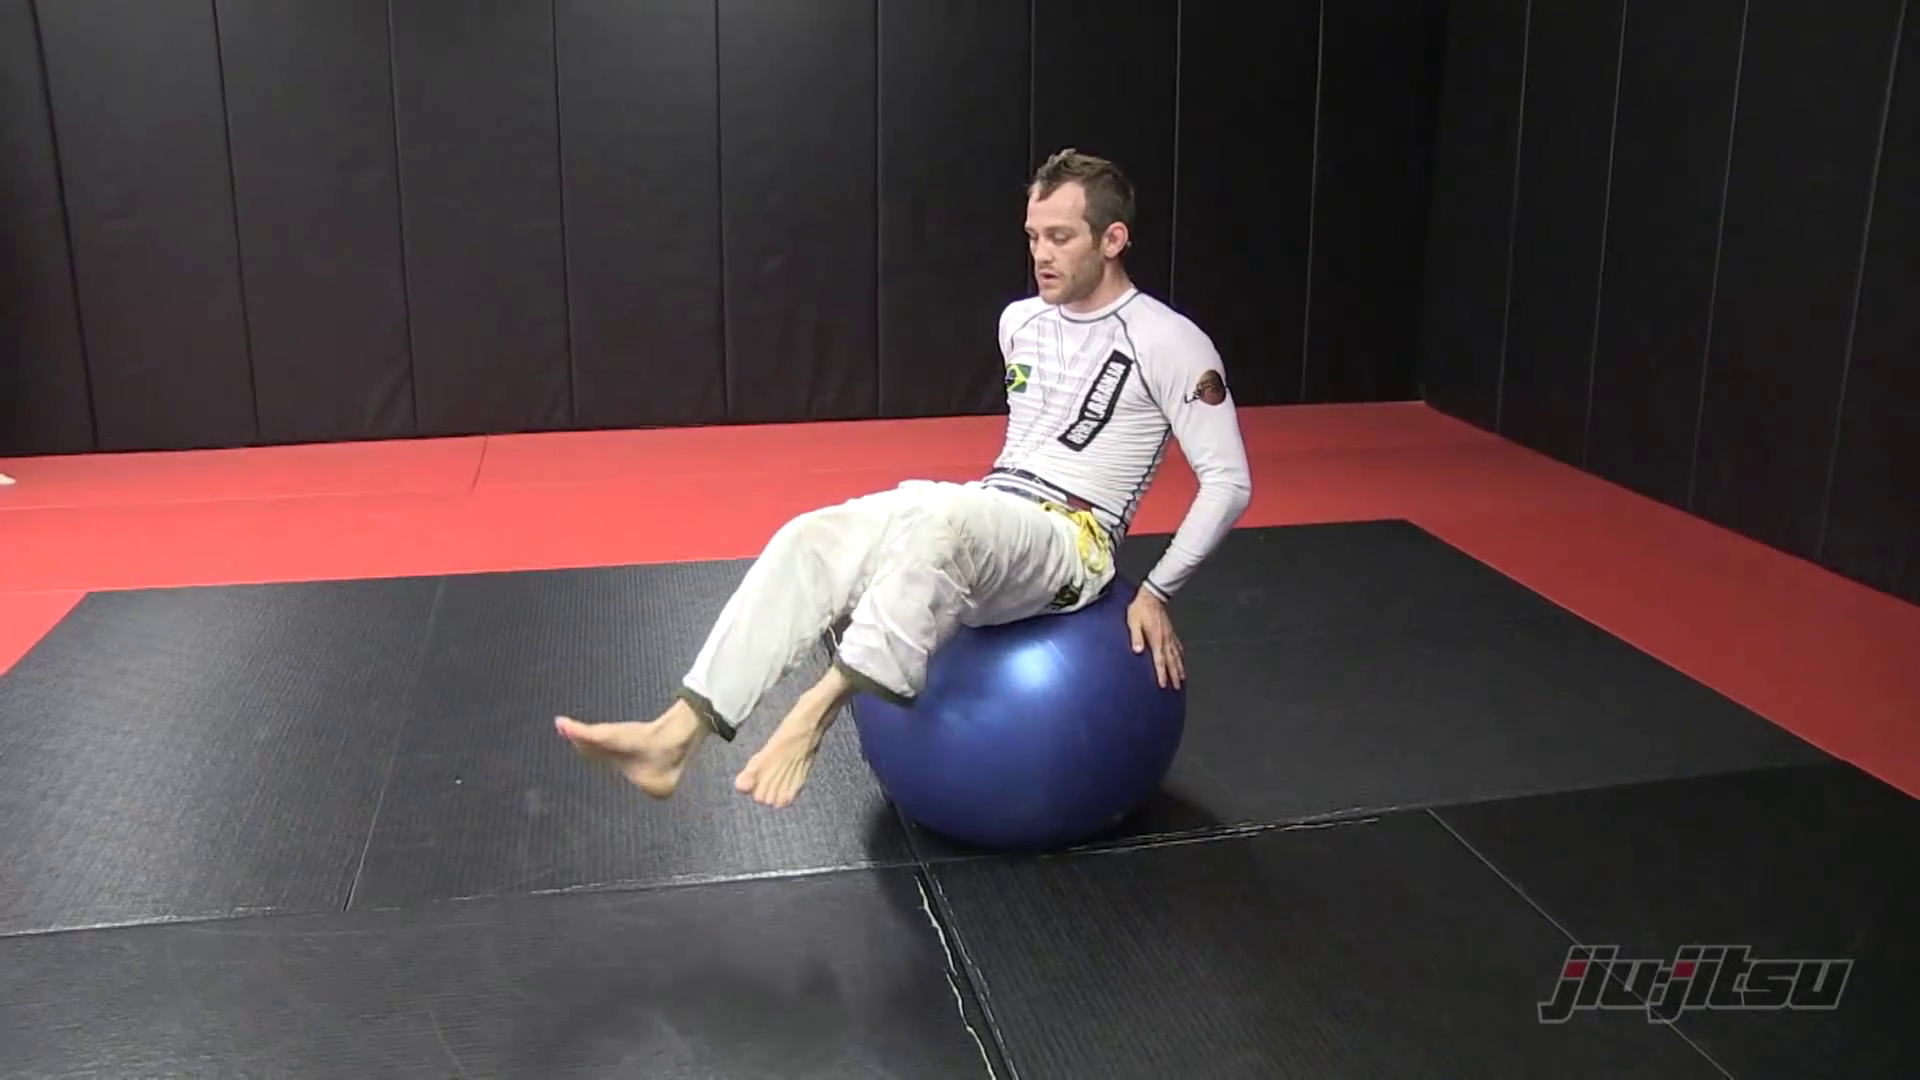yogaball: (827, 562, 1200, 843)
